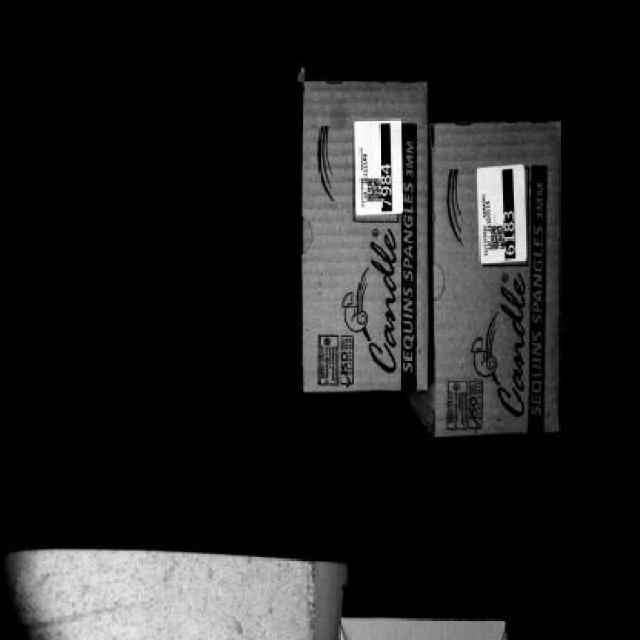cardboxes: (298, 75, 430, 392), (437, 124, 561, 438)
